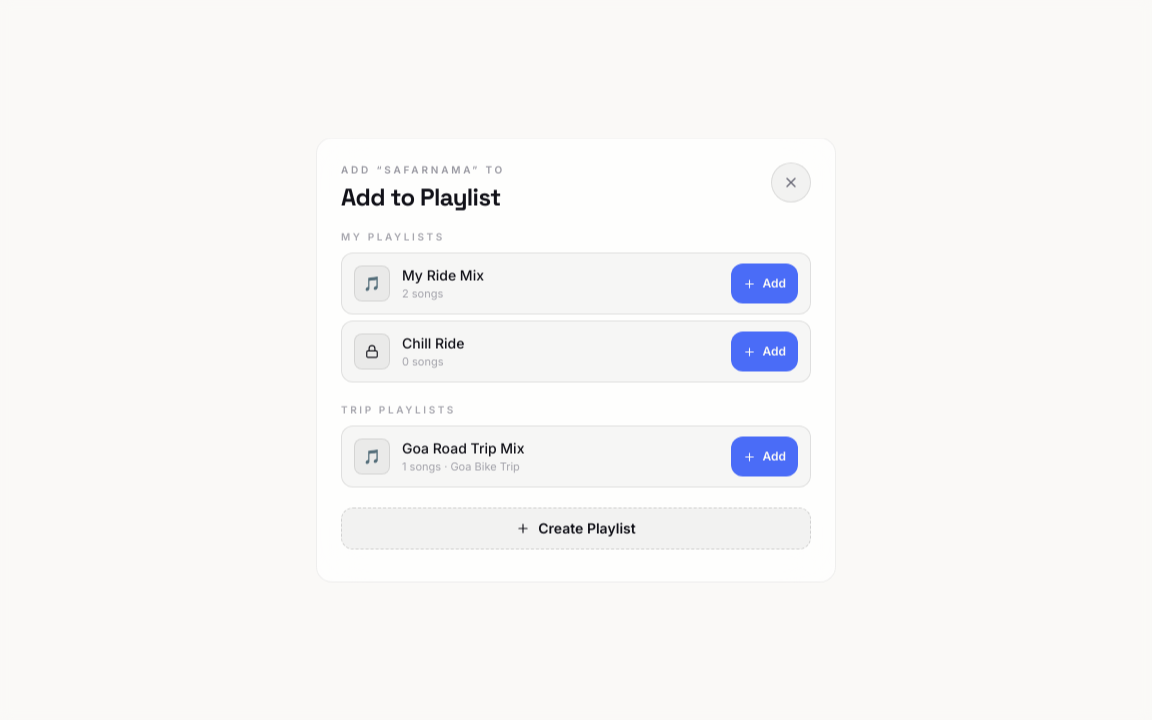
Test: AddToPlaylistModal › handles a duplicate add gracefully
Check: the text "My Ride Mix" is shown, box [402,266,484,283]
Click the button with aria-label "add to my ride mix": {"x": 765, "y": 284} [732,264,798,304]
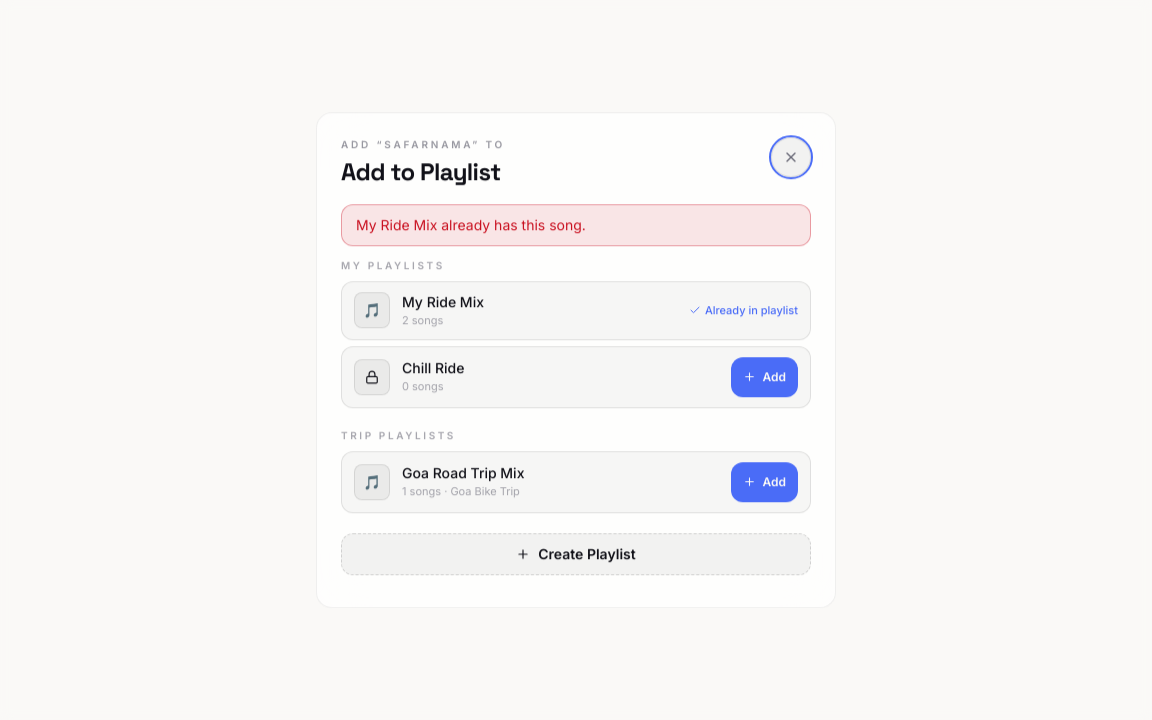
Check: the text "My Ride Mix already has this song." is shown, box [341,204,811,246]
Check: the text "Already in playlist" is shown, box [689,302,798,319]
